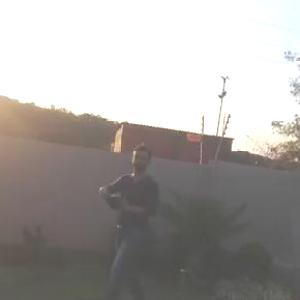follow: (93, 139, 166, 299)
